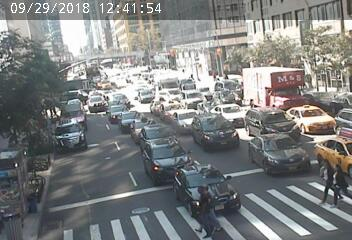car: (178, 170, 237, 207), (244, 71, 303, 106), (252, 143, 304, 171), (137, 144, 185, 172), (54, 125, 96, 156), (290, 107, 329, 137), (314, 135, 352, 161), (198, 116, 236, 141), (62, 98, 95, 125), (249, 112, 289, 133), (154, 72, 198, 91), (211, 104, 254, 122), (211, 77, 234, 98), (142, 126, 168, 141), (132, 119, 153, 137), (117, 111, 141, 126), (175, 113, 198, 128), (180, 100, 207, 112), (140, 86, 161, 101), (156, 104, 179, 116), (88, 96, 103, 113), (107, 105, 125, 118), (99, 79, 115, 92), (109, 95, 125, 104), (182, 91, 202, 98)
